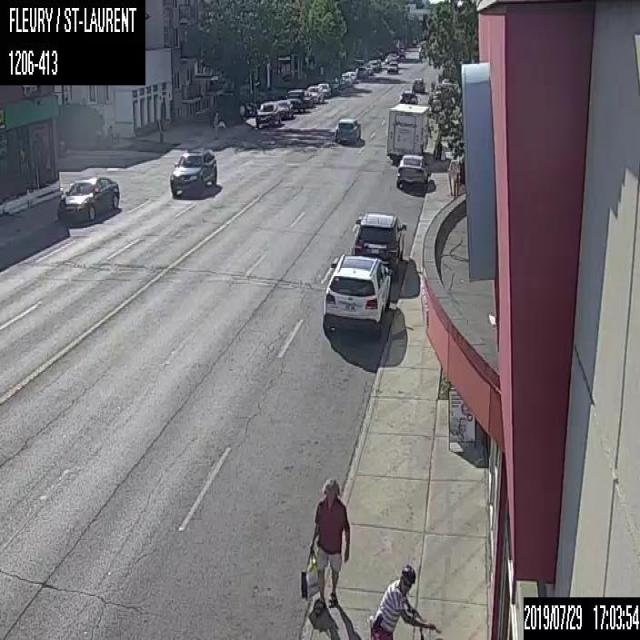cyclist: (367, 562, 439, 638)
pedestrian: (299, 475, 350, 613)
vehicle: (321, 252, 393, 331), (351, 212, 406, 272), (56, 174, 119, 222), (385, 102, 428, 166), (169, 148, 216, 192), (396, 153, 428, 190), (334, 116, 360, 143), (254, 100, 281, 125), (284, 88, 304, 112), (276, 98, 294, 119), (305, 85, 323, 103), (400, 88, 417, 102), (316, 82, 331, 96), (411, 77, 425, 91), (303, 90, 313, 106), (387, 60, 398, 73)
